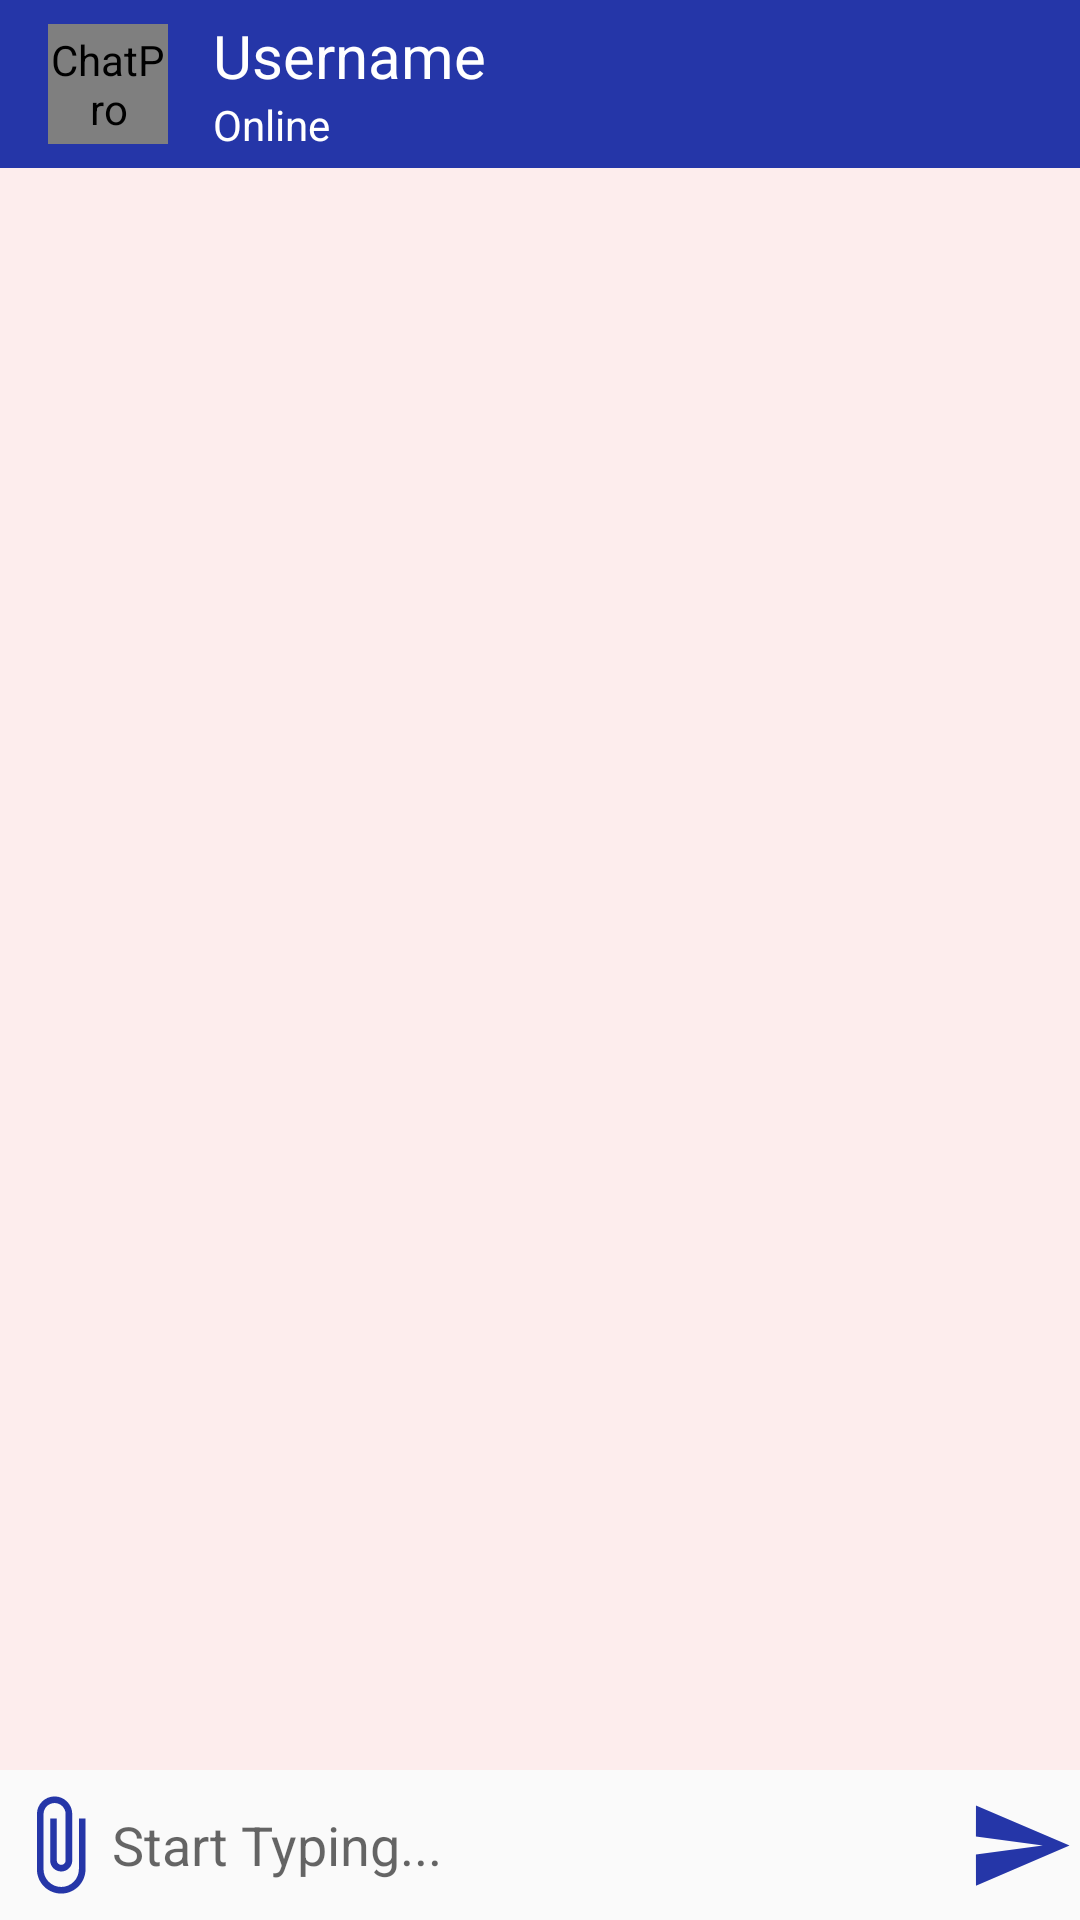

Screen size 1080w x 1920h. Icon name, then its box in pixels as (x1, y1, x2, y2):
attachment: (37, 1796, 86, 1894)
sendbtn: (976, 1805, 1069, 1886)
